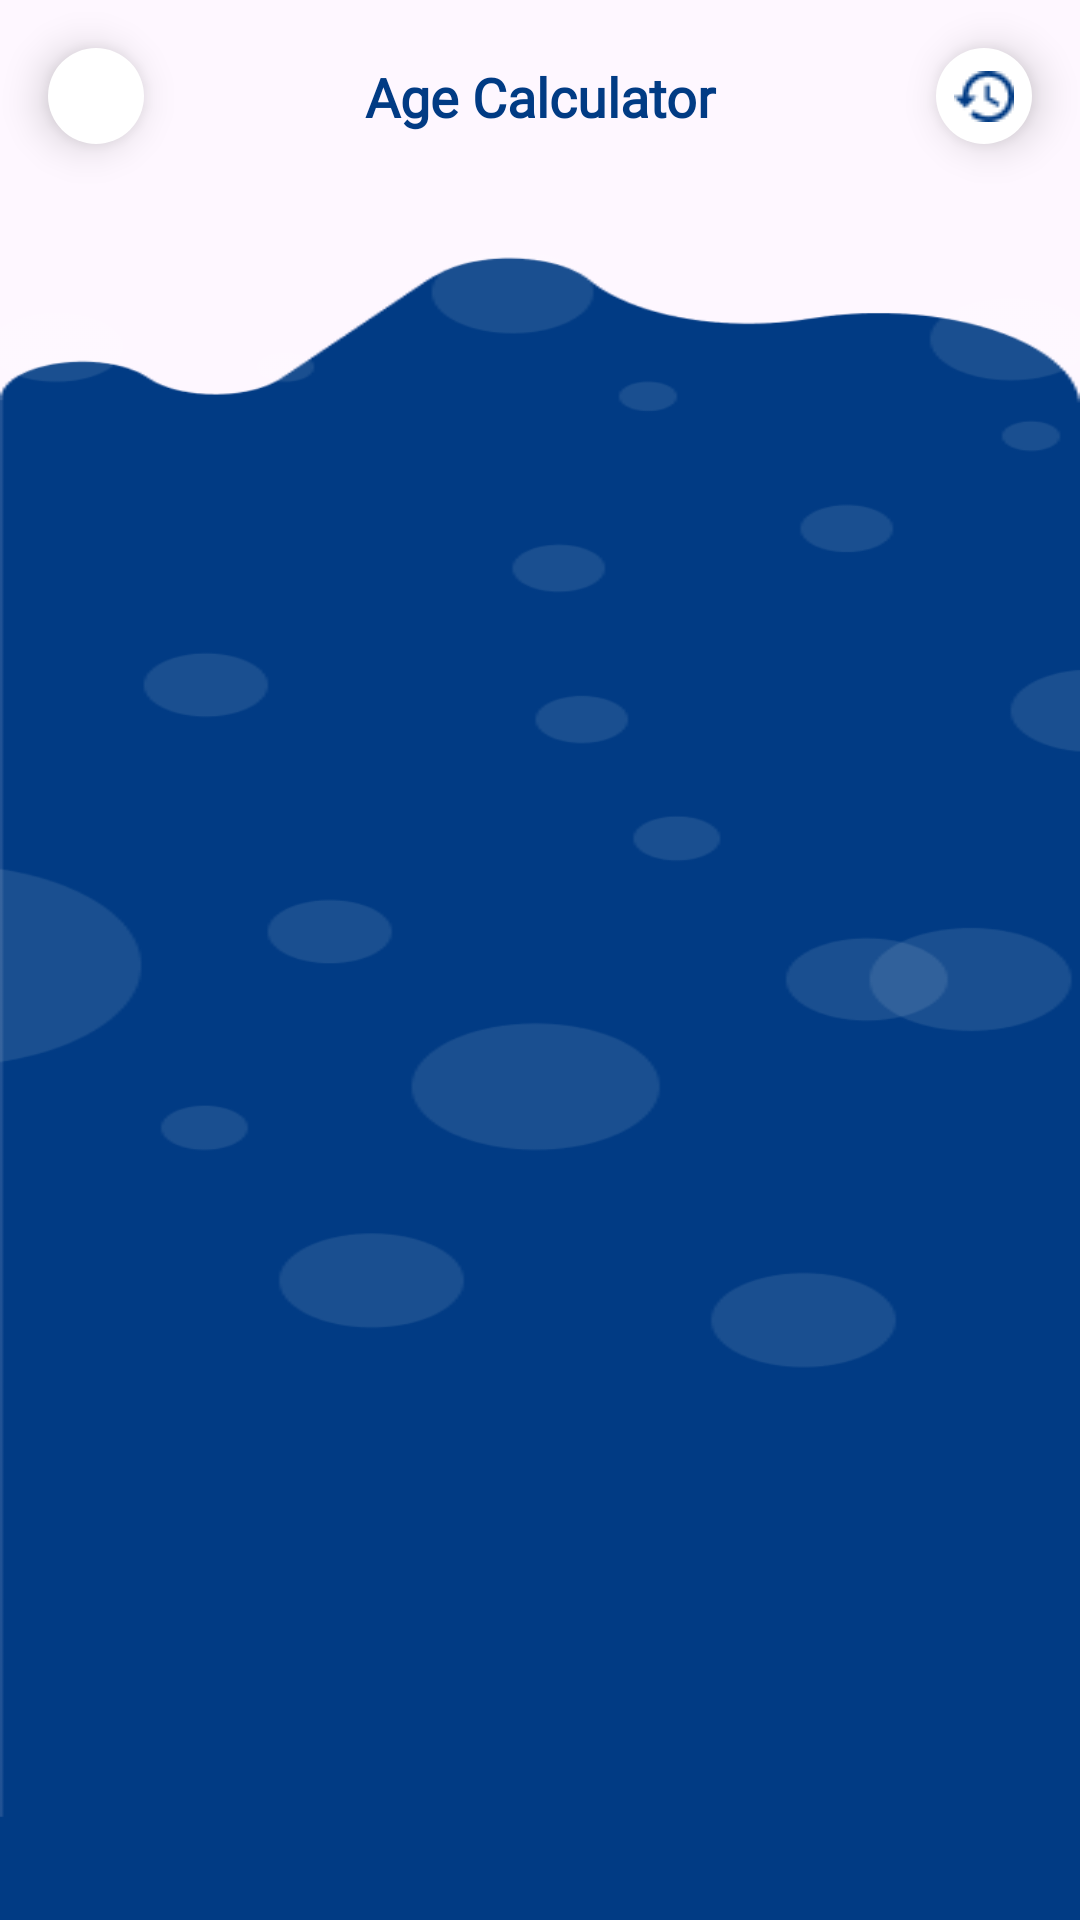

Named icons in this screenshot (1080x1920) and their bounding boxes, bbox=[x1, y1, x2, y2]:
History: bbox=[936, 48, 1032, 144]
